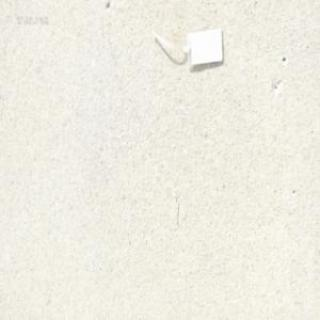LuggageTagtrack_idkeyframe: (147, 22, 225, 70)
